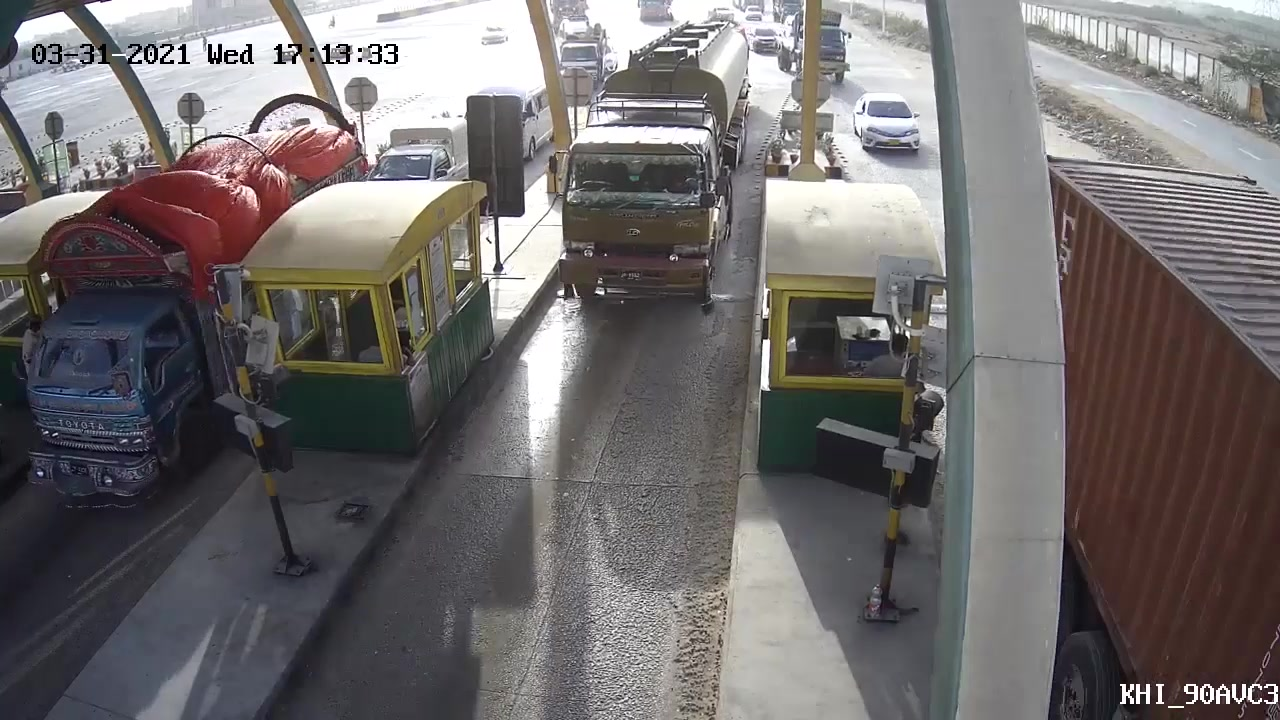F6: (542, 57, 740, 336)
